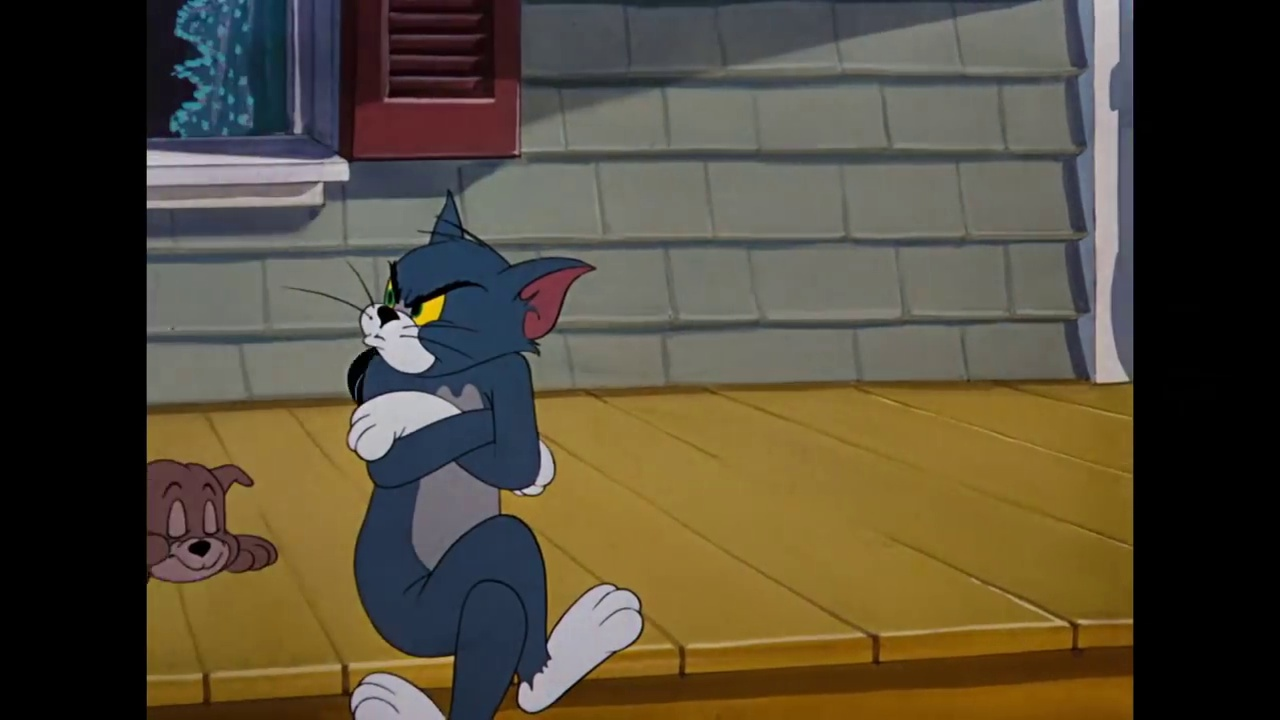tom: (348, 187, 601, 381)
